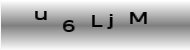6: (60, 19, 76, 33)
L: (90, 13, 104, 28)
M: (129, 11, 147, 24)
j: (106, 12, 113, 30)
u: (32, 7, 48, 22)
